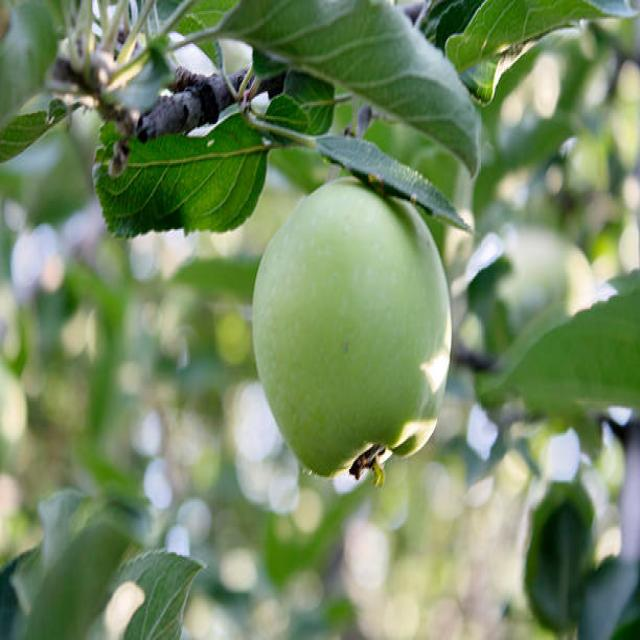Unripe: (252, 174, 451, 485)
